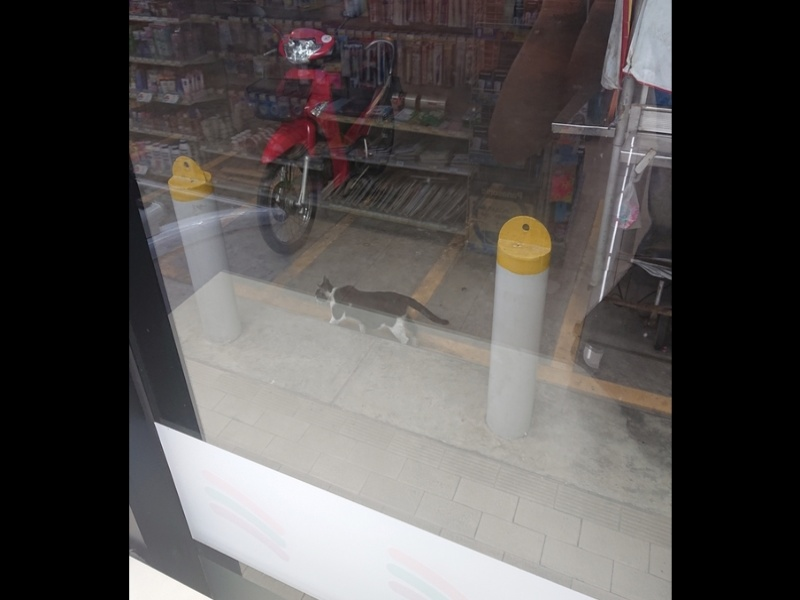cat: (313, 275, 450, 354)
